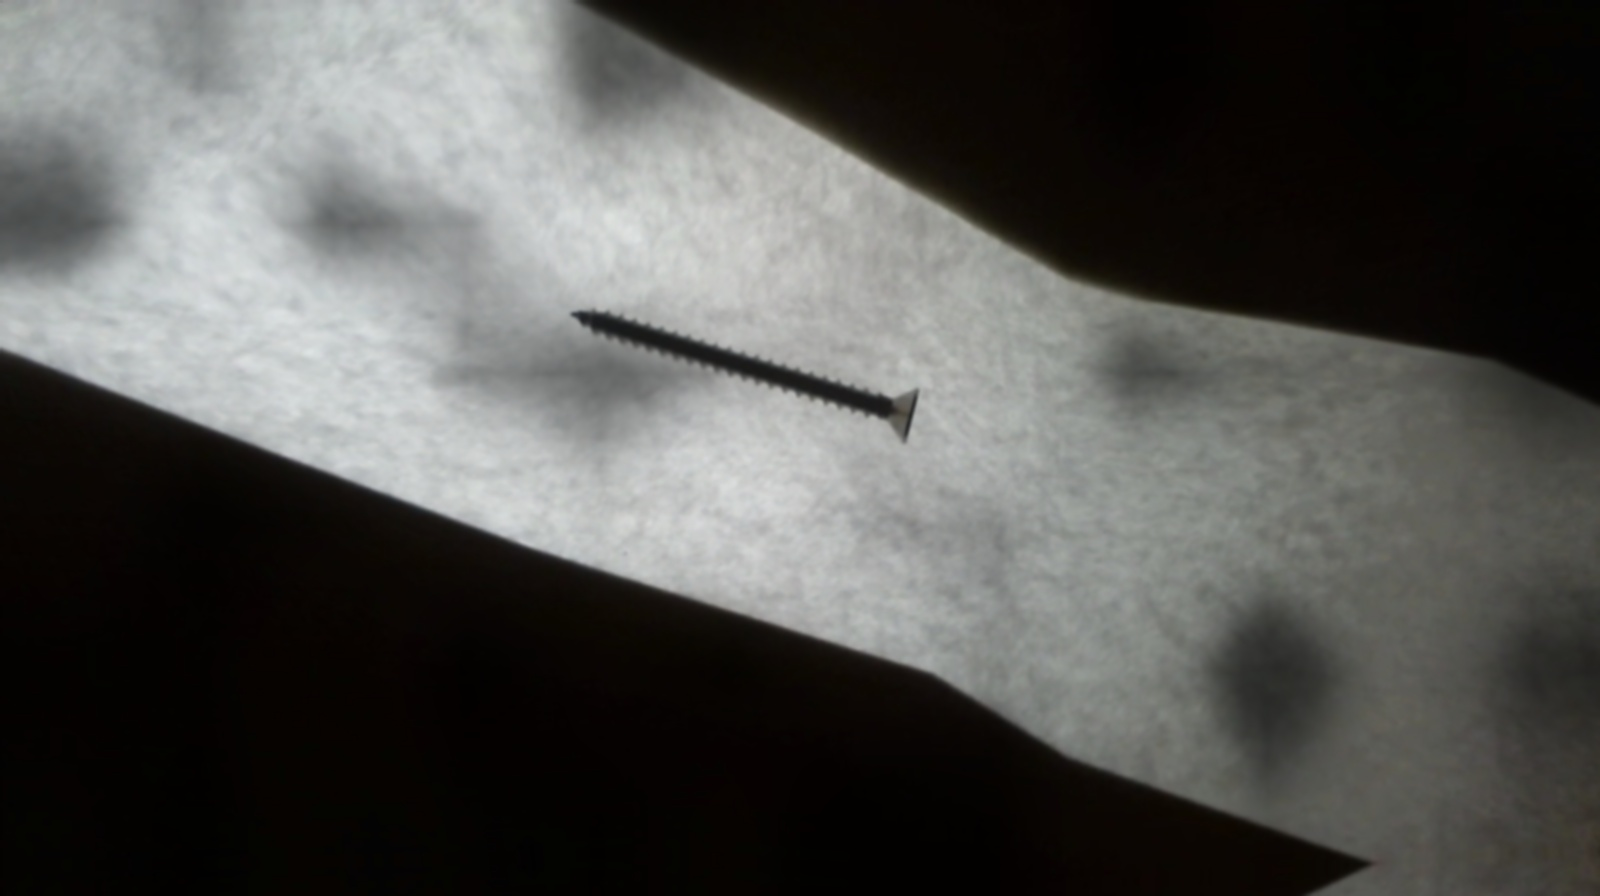S002: (552, 281, 938, 463)
